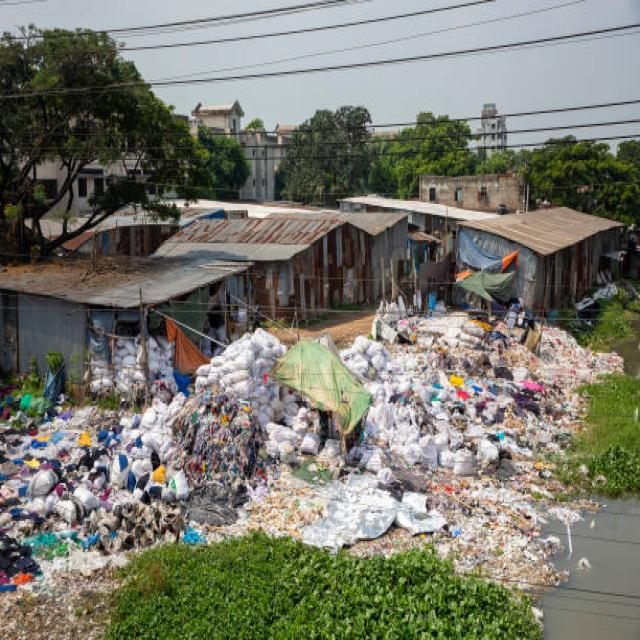trash: (57, 334, 554, 537)
